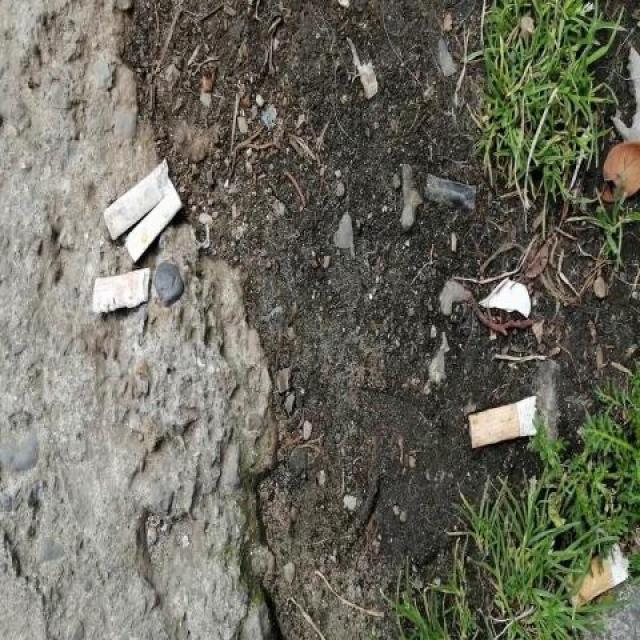non-organic waste: (101, 151, 171, 245), (560, 530, 632, 614), (122, 183, 183, 264), (465, 391, 542, 453), (88, 264, 156, 320)
